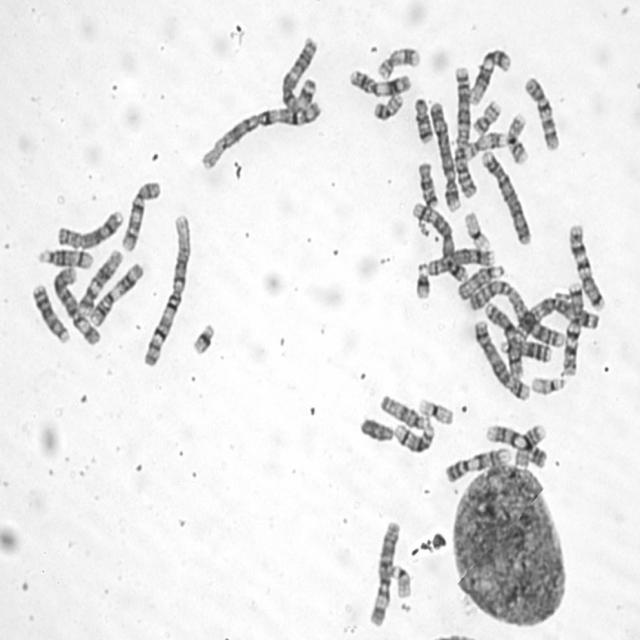A1: (200, 103, 323, 171), (143, 212, 190, 370)
A2: (469, 280, 565, 349), (452, 68, 478, 201)
A3: (510, 297, 600, 342), (280, 38, 318, 110)
B4: (479, 151, 532, 246), (428, 102, 462, 214)
B5: (410, 202, 468, 283), (474, 321, 530, 402)
C10: (122, 180, 161, 252), (524, 76, 560, 153)
C11: (90, 262, 143, 328), (349, 68, 412, 97)
C12: (78, 250, 122, 317), (470, 49, 512, 105)
C6: (53, 266, 102, 348), (366, 520, 399, 628)
C7: (565, 224, 604, 312), (562, 280, 584, 375)
C8: (57, 210, 124, 251), (427, 248, 496, 274)
C9: (483, 424, 548, 468), (444, 447, 512, 486)
D13: (30, 282, 71, 344), (500, 339, 552, 363)
D14: (393, 417, 435, 453), (38, 250, 94, 268)
D15: (457, 264, 505, 300), (378, 396, 424, 430)
E16: (514, 424, 546, 466), (505, 112, 530, 164)
E17: (377, 46, 420, 80), (465, 130, 508, 162)
E18: (417, 160, 439, 207), (413, 96, 434, 143)
F19: (463, 210, 492, 250), (418, 395, 454, 427)
F20: (473, 100, 500, 136), (373, 94, 404, 122)
G21: (192, 322, 216, 358), (415, 258, 430, 300)
G22: (530, 377, 567, 398), (391, 565, 413, 599)
X: (484, 303, 523, 378)
Y: (359, 419, 394, 444)
